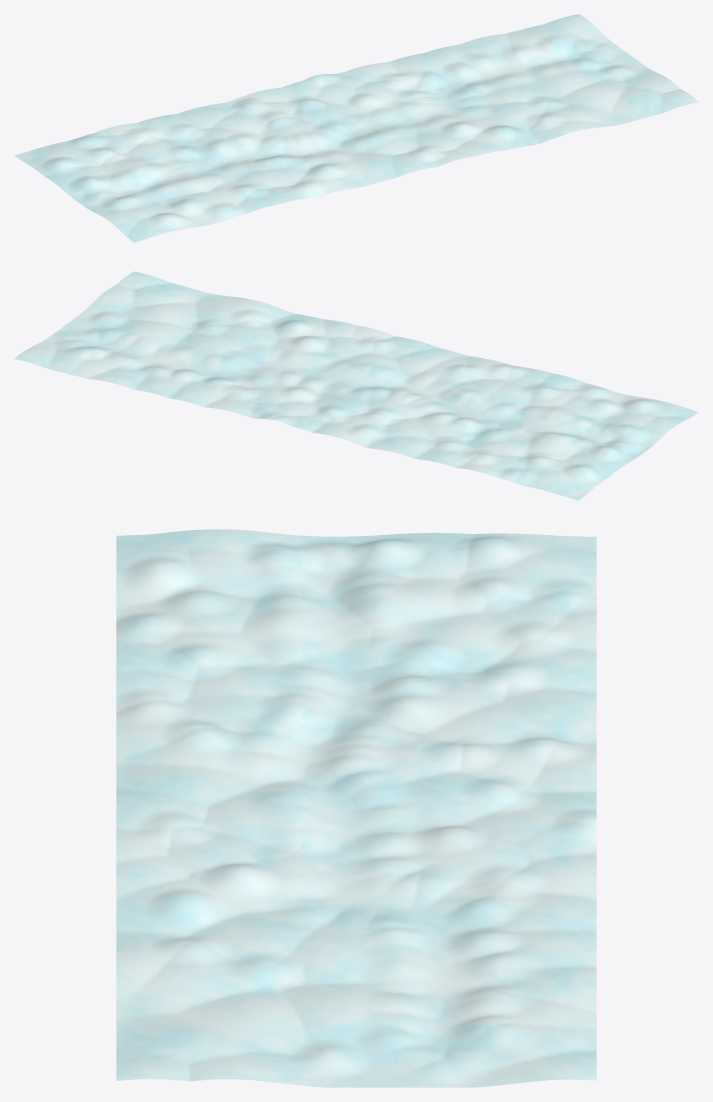
The model's file is Enviroment.fbx.
3 renders of one model, top to bottom at view 1: azimuth 30°, elevation 25°; view 2: azimuth 150°, elevation 25°; view 3: azimuth 270°, elevation 25°, orthographic. The views are drawn at different scales.
Visible parts, largest first — view 1: Plane; view 2: Plane; view 3: Plane.
Boxes of the visible parts, box(x1,y1,x2,y2) form: Plane: box(14, 14, 698, 242); Plane: box(14, 271, 698, 500); Plane: box(116, 529, 596, 1087).
Size of the model in its own units: 253 by 93.3 by 3.35.
